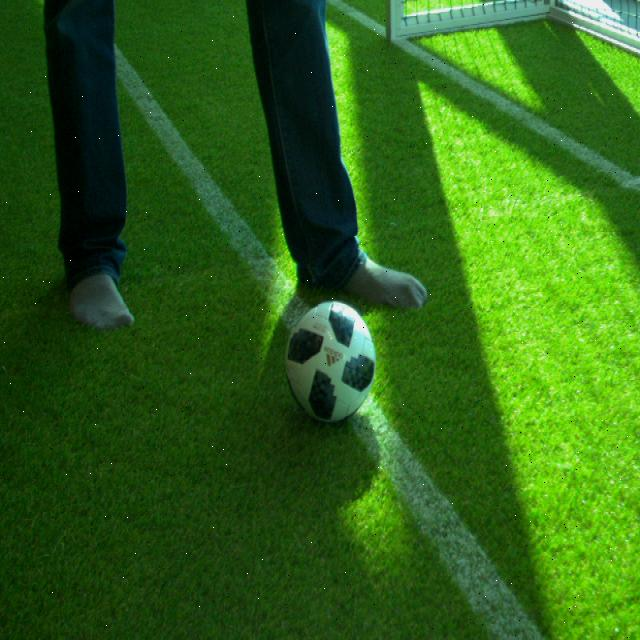ball: (284, 300, 377, 425)
goalpost: (385, 0, 404, 43)
